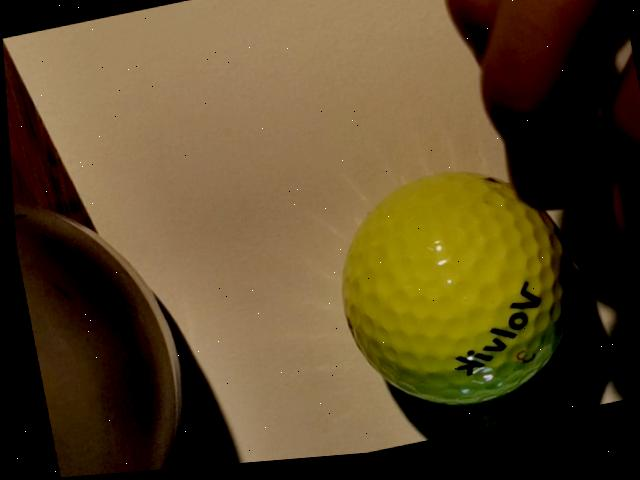Ball: (317, 156, 591, 432)
Volvik: (437, 286, 548, 386)
